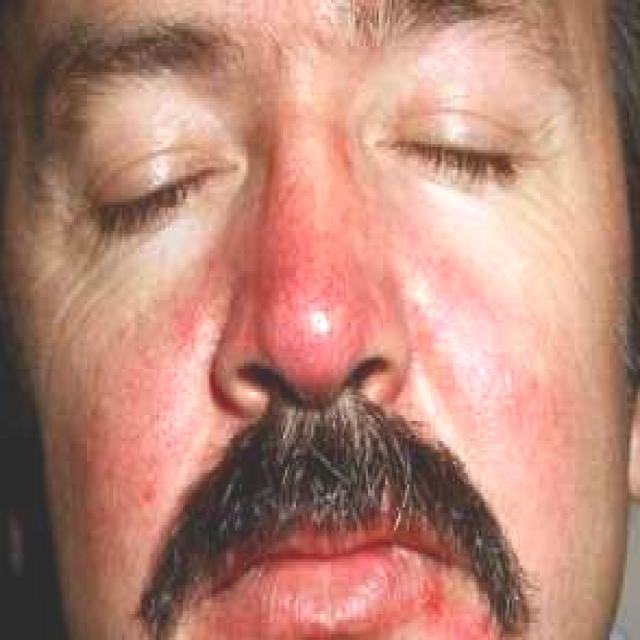Rosacea: (58, 243, 232, 595), (213, 122, 401, 396), (406, 234, 589, 511)
